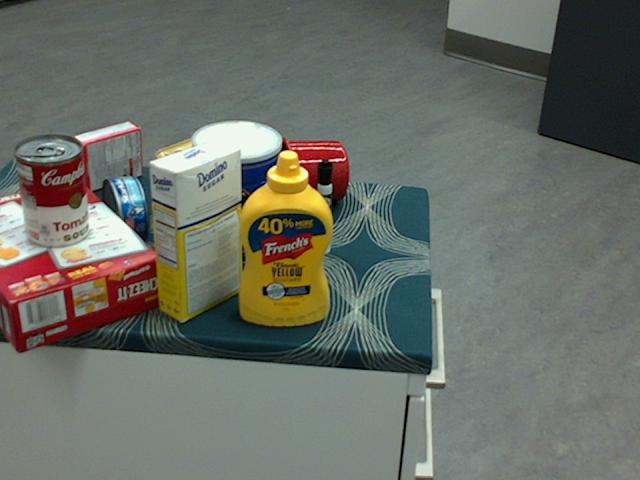cracker_box: (0, 176, 164, 352)
gelatin_box: (72, 121, 141, 192)
large_marker: (316, 159, 332, 253)
master_chef_can: (189, 119, 279, 264)
mug: (271, 135, 347, 207)
mustard_bottle: (238, 149, 333, 325)
potted_meat_can: (153, 131, 232, 222)
sugar_box: (148, 139, 243, 321)
tomato_soup_can: (14, 134, 89, 248)
tuna_fish_can: (99, 175, 146, 249)
